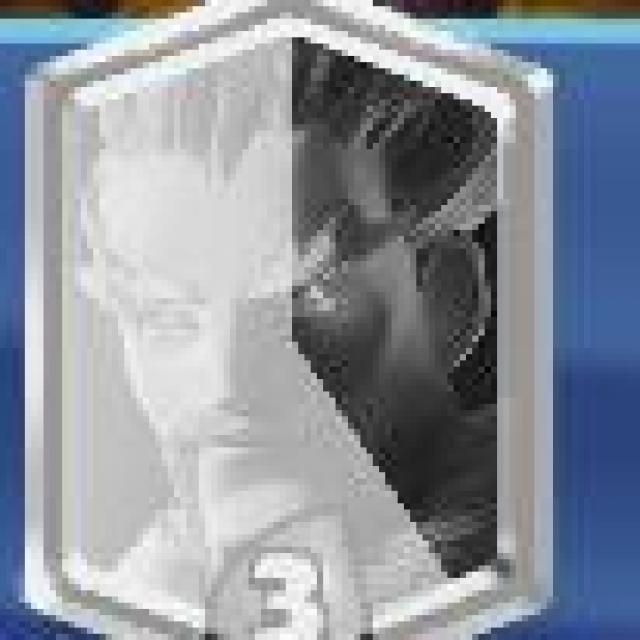Ice_Wizard: (37, 0, 545, 640)
